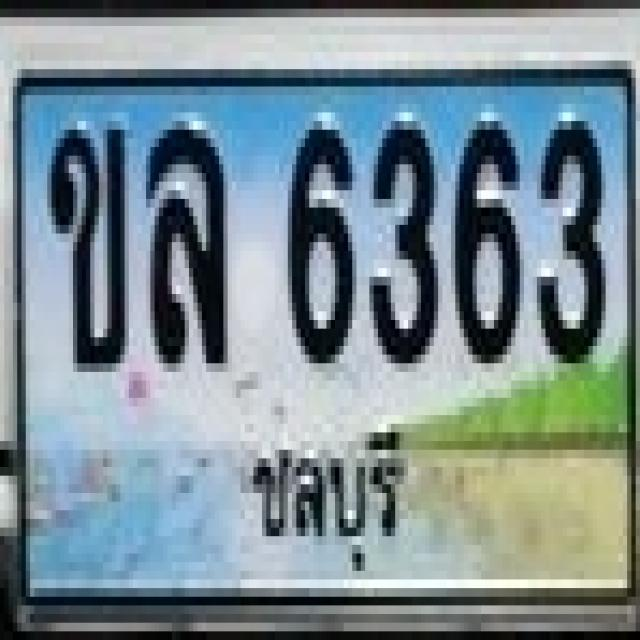license_plate: (13, 61, 640, 614)
